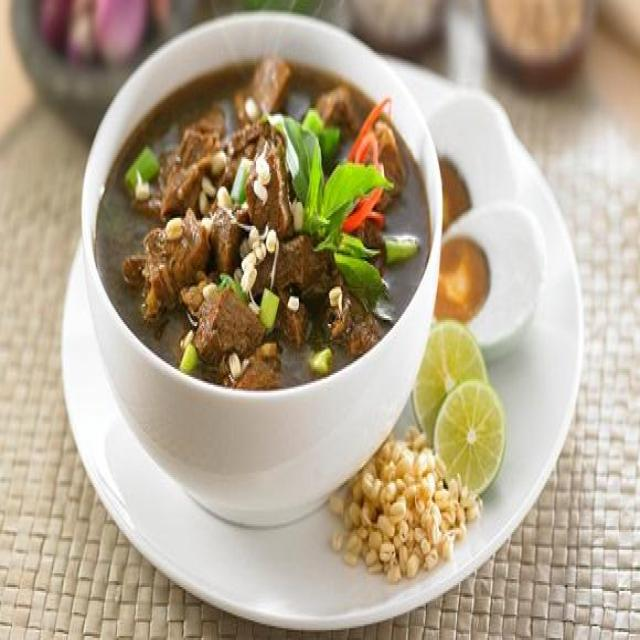Rawon: (82, 38, 441, 380)
